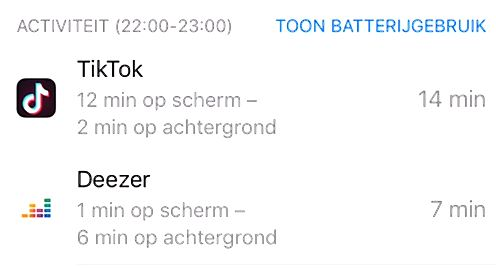activity: (7, 12, 238, 40)
app: (8, 50, 490, 143), (8, 161, 490, 254)
